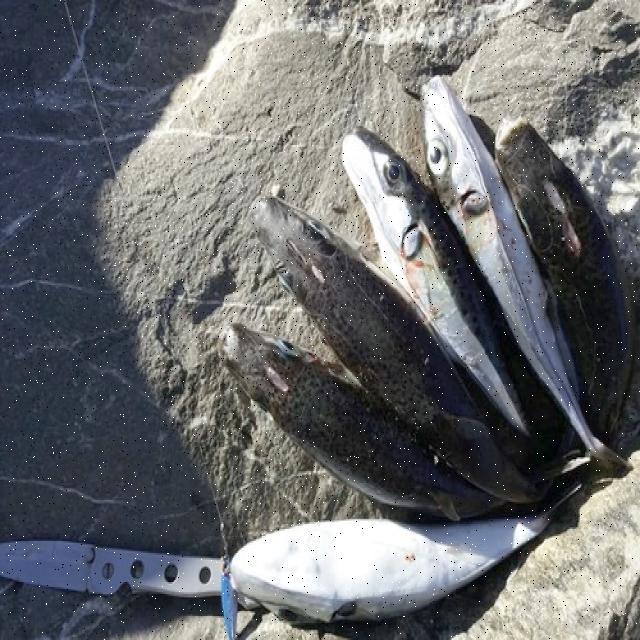Balik: (251, 198, 545, 501), (422, 77, 628, 467), (342, 128, 527, 433), (219, 325, 501, 520), (496, 118, 633, 436), (232, 509, 552, 624)
